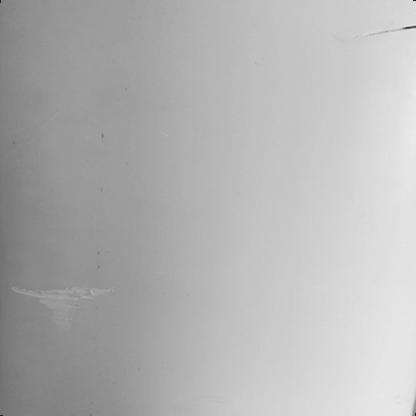sunshang: (9, 287, 118, 333), (342, 25, 416, 41)
